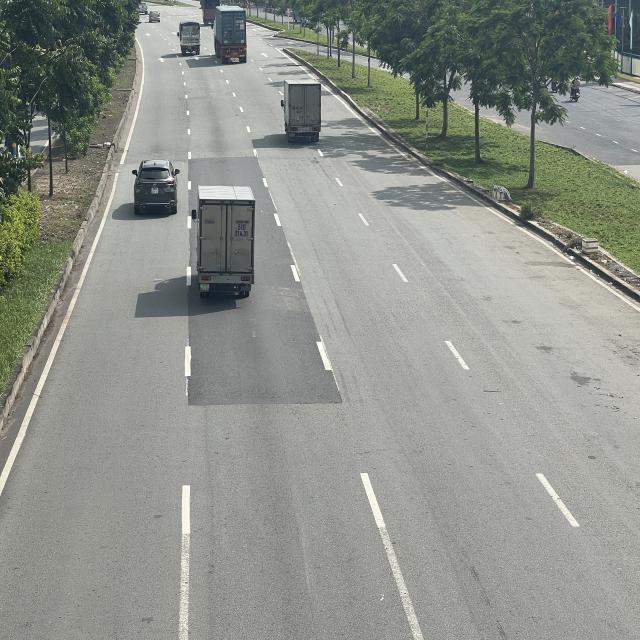car: (131, 160, 179, 215)
container: (212, 8, 247, 64)
truck: (191, 184, 256, 297), (279, 80, 321, 143)
